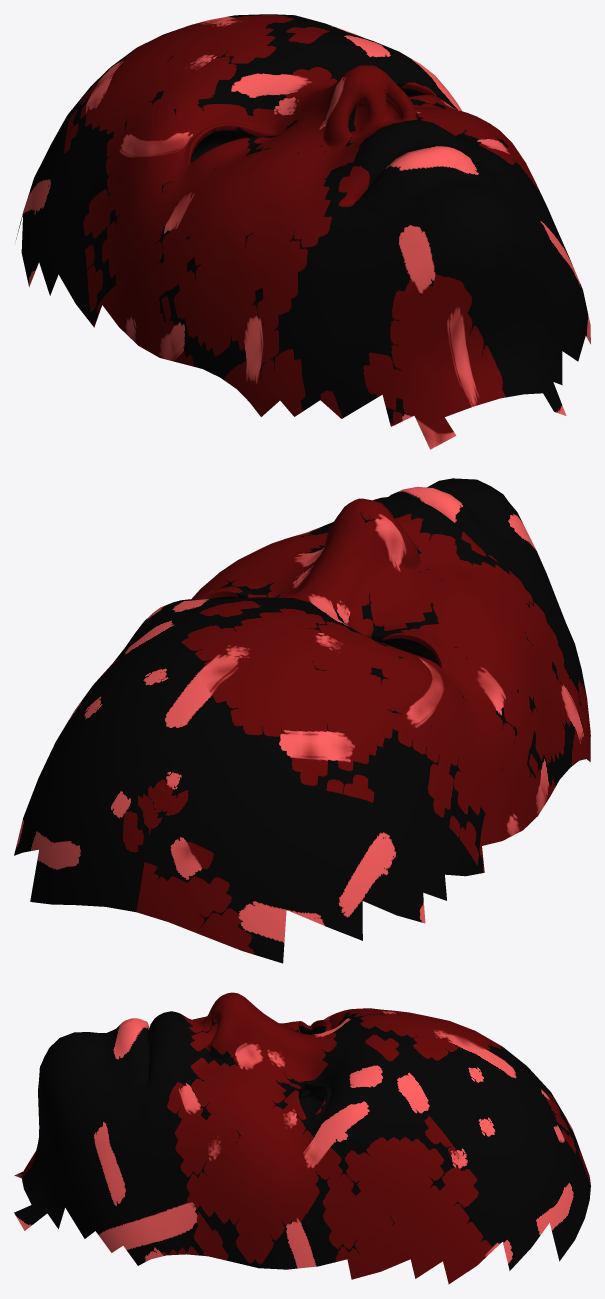
The picture shows the model from 3 angles, top to bottom: view 1: azimuth 30°, elevation 25°; view 2: azimuth 150°, elevation 25°; view 3: azimuth 270°, elevation 25°; orthographic projection. The views are drawn at different scales.
Parts seen in each view (by area): view 1: CC_Base_Body.001; view 2: CC_Base_Body.001; view 3: CC_Base_Body.001.
Part boxes in pixels (x1=…): CC_Base_Body.001: x1=16, y1=14, x2=590, y2=449; CC_Base_Body.001: x1=14, y1=478, x2=590, y2=963; CC_Base_Body.001: x1=14, y1=992, x2=590, y2=1284.
Bounding box in the file's own units: 1427 × 959 × 2298.
Materials: 1 (1 with a texture image).
